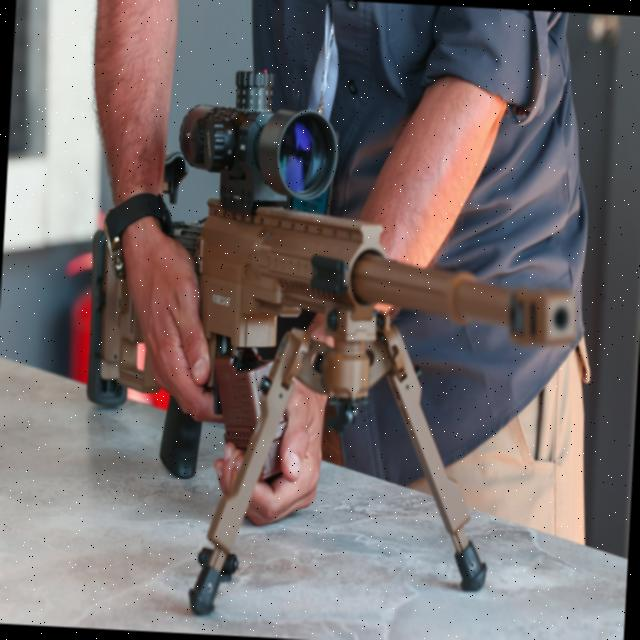Sniper: (55, 44, 588, 624)
